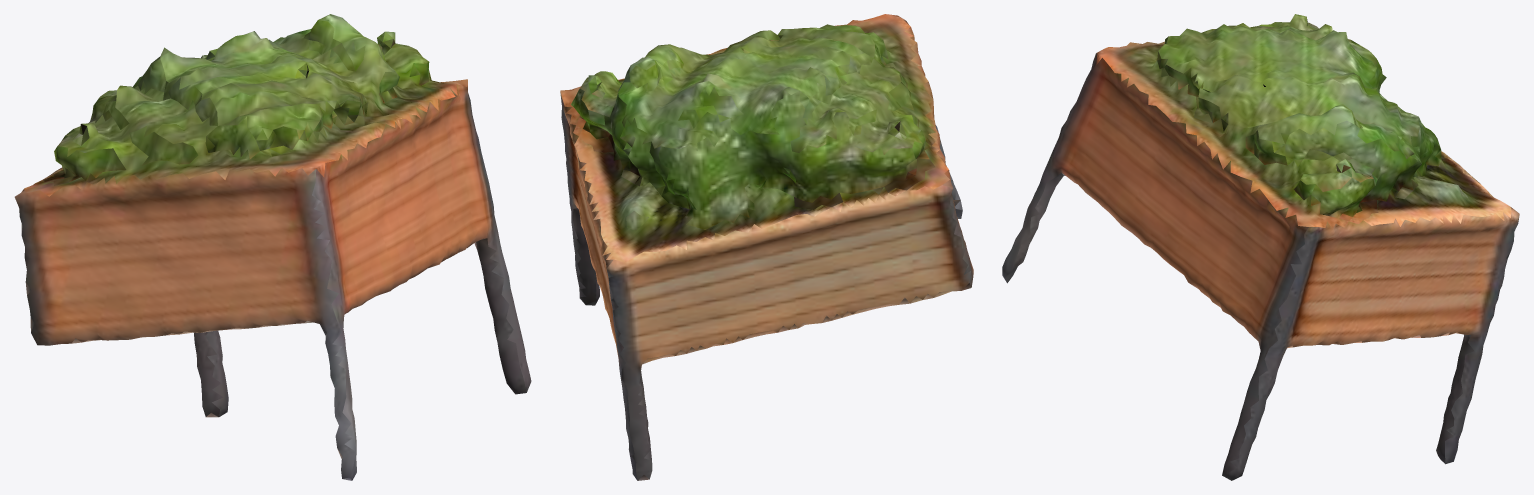
The picture shows the model from 3 angles, left to right: view 1: azimuth 30°, elevation 25°; view 2: azimuth 150°, elevation 25°; view 3: azimuth 270°, elevation 25°; orthographic projection. The views are drawn at different scales.
Visible parts, largest first — view 1: world; view 2: world; view 3: world.
Boxes of the visible parts, x1=… form: world: x1=14, y1=14, x2=531, y2=480; world: x1=560, y1=14, x2=973, y2=480; world: x1=1002, y1=14, x2=1519, y2=480.
Size of the model in its own units: 0.9352 by 0.8315 by 1.01.
Materials: 1 (1 with a texture image).
